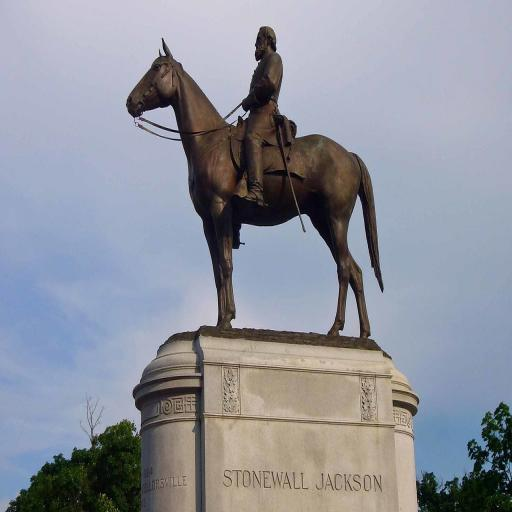Horse: (124, 36, 386, 340)
